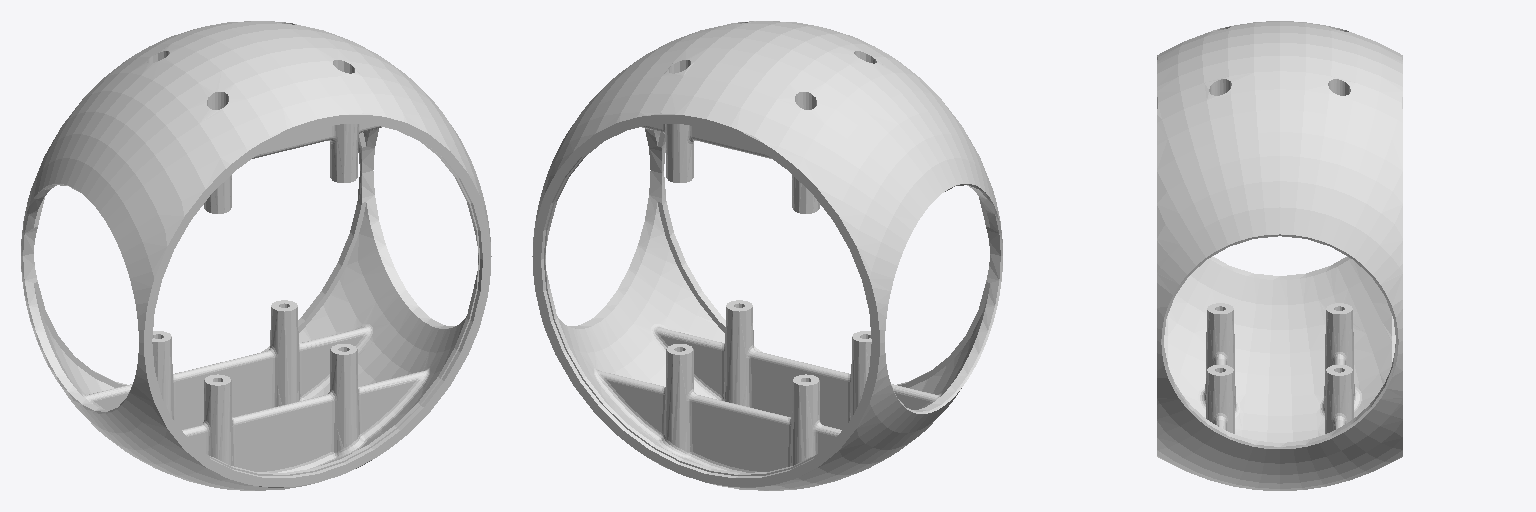
The picture shows the model from 3 angles: view 1: azimuth 30°, elevation 25°; view 2: azimuth 150°, elevation 25°; view 3: azimuth 270°, elevation 25°; orthographic projection.
Parts seen in each view (by area): view 1: astribot_arm_link_6; view 2: astribot_arm_link_6; view 3: astribot_arm_link_6.
Part boxes in pixels (left/top/right/bottom): astribot_arm_link_6: left=21, top=21, right=491, bottom=490; astribot_arm_link_6: left=532, top=21, right=1002, bottom=490; astribot_arm_link_6: left=1157, top=21, right=1402, bottom=490.
Size of the model in its own units: 0.0752 by 0.087 by 0.0455.